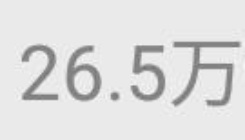TextView: (1, 1, 244, 139)
